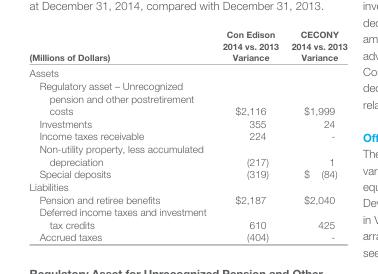table: (28, 28, 346, 242)
table column: (28, 28, 213, 242), (213, 28, 284, 242), (284, 28, 346, 242)
table column header: (28, 28, 346, 64)
table projected row header: (28, 64, 346, 78), (28, 179, 346, 192)
table row: (28, 78, 346, 116), (28, 28, 346, 64), (28, 141, 346, 167), (28, 205, 346, 230), (28, 64, 346, 78), (28, 116, 346, 129), (28, 179, 346, 192), (28, 192, 346, 205), (28, 129, 346, 141), (28, 167, 346, 179), (28, 230, 346, 242)
